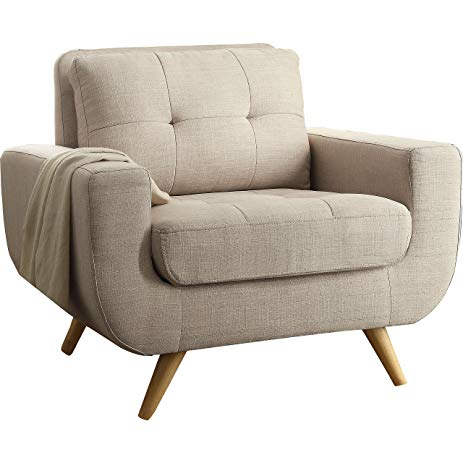chairs: (8, 29, 462, 427)
